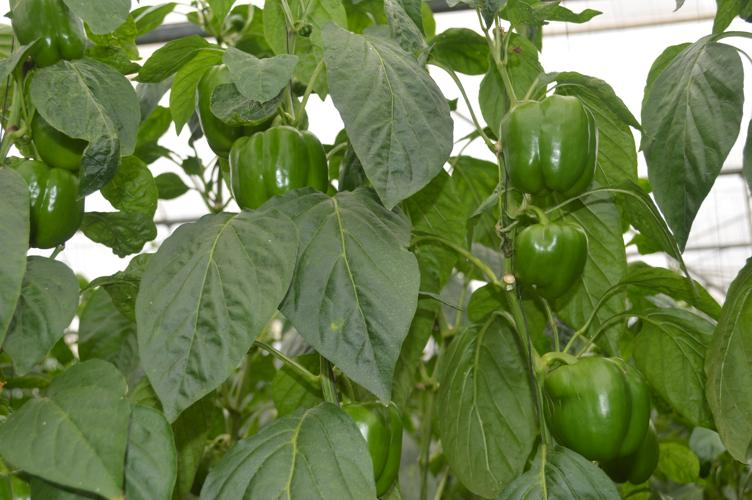BellPepper: (537, 353, 654, 472), (505, 90, 603, 194), (225, 122, 329, 212), (5, 153, 94, 245), (336, 395, 405, 495), (509, 222, 593, 304), (23, 107, 100, 177), (8, 2, 94, 63)
